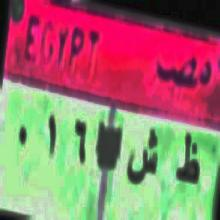0: (13, 119, 35, 162)
1: (43, 114, 61, 162)
6: (71, 113, 92, 169)
Thaa: (173, 129, 202, 193)
sheen: (127, 126, 159, 190)
